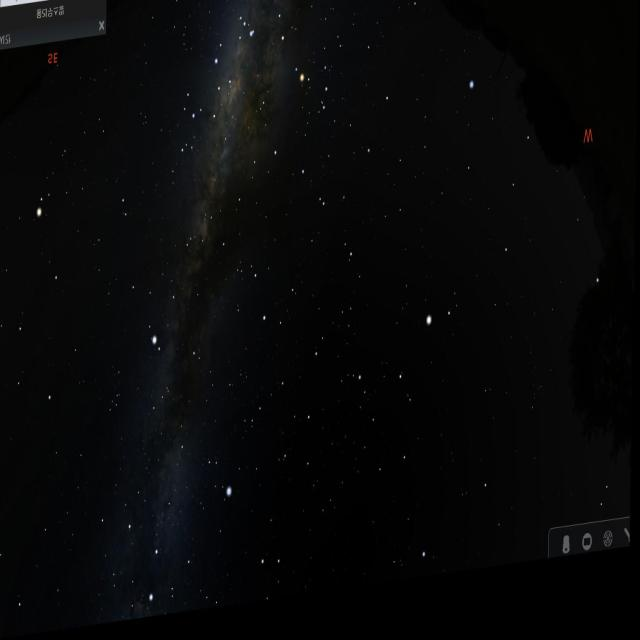aquila: (118, 222, 213, 388)
bootes: (366, 289, 462, 501)
cygnus: (117, 421, 201, 624)
lyra: (205, 454, 237, 516)
sagittarius: (168, 33, 247, 176)
scorpius: (234, 0, 340, 150)
